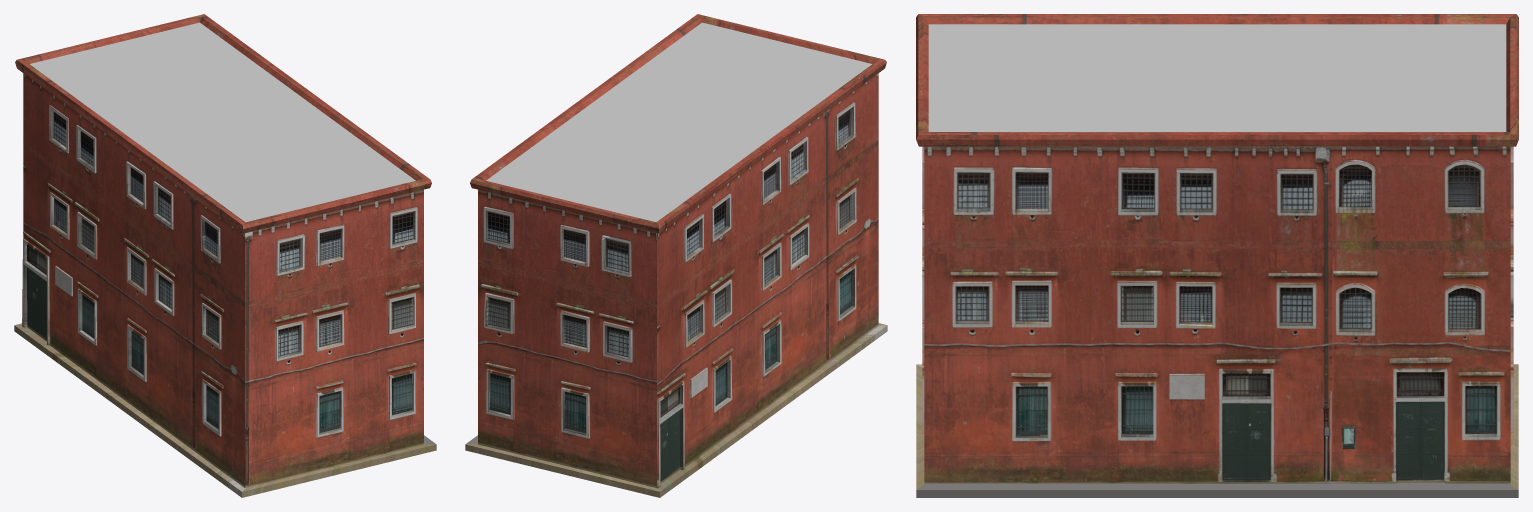
File: edificio2.dae
3 views of the same model, side by side, from view 1: azimuth 30°, elevation 25°; view 2: azimuth 150°, elevation 25°; view 3: azimuth 270°, elevation 25° (orthographic). The views are drawn at different scales.
Parts seen in each view (by area): view 1: Cube, Cube_001; view 2: Cube, Cube_001; view 3: Cube, Cube_001.
Part boxes in pixels (bbox=[...]): Cube: bbox=[14, 14, 436, 497]; Cube_001: bbox=[30, 22, 415, 222]; Cube: bbox=[465, 14, 887, 497]; Cube_001: bbox=[486, 22, 871, 222]; Cube: bbox=[916, 14, 1518, 497]; Cube_001: bbox=[928, 24, 1506, 131].
Size of the model in its own units: 6.99 by 14.18 by 9.32.
